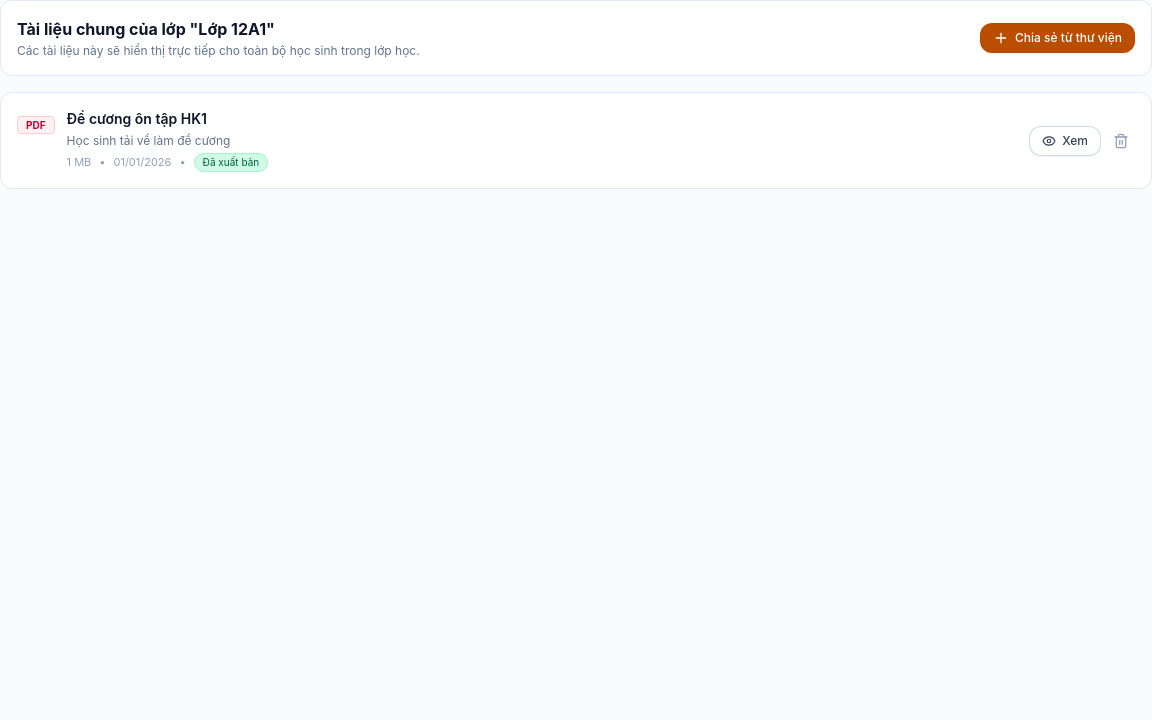
Scenario: TeacherClassMaterialsTab › renders class materials list and allows opening share modal
This screenshot has width=1152, height=720.
Check: the heading "Đề cương ôn tập HK1" is shown, box [67, 110, 207, 127]
Check: the text "Đã xuất bản" is shown, box [194, 153, 268, 172]
Click the button "Chia sẻ từ thư viện": x=1058, y=38 [980, 23, 1135, 53]
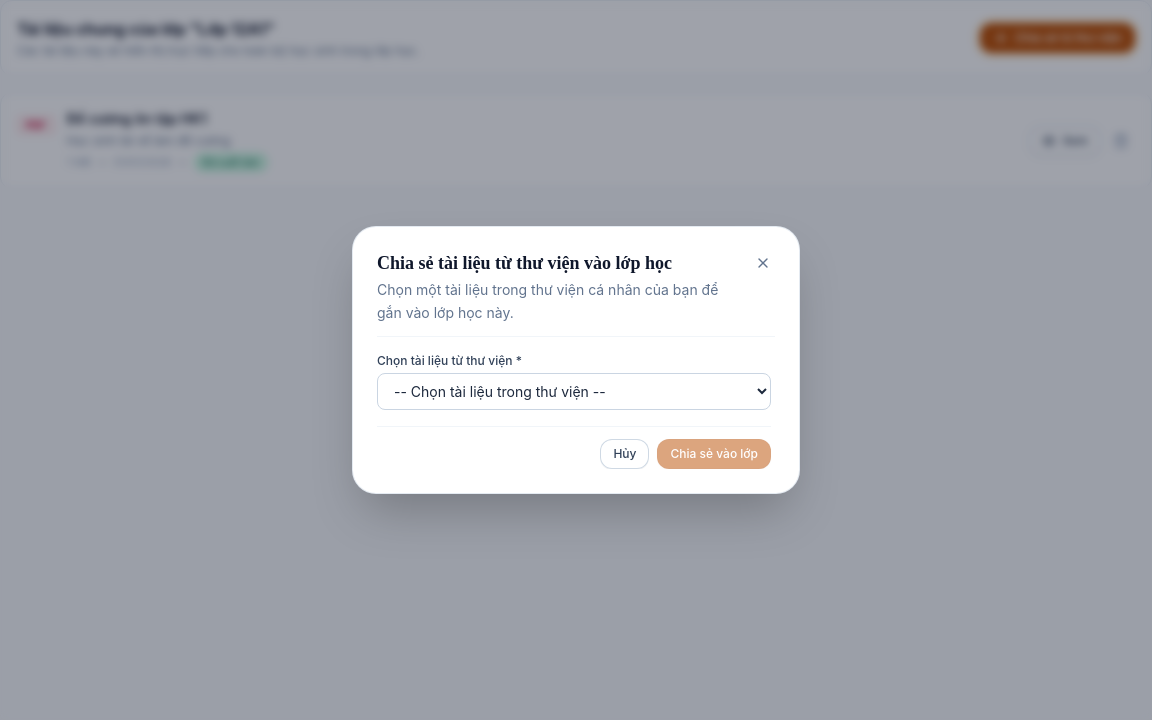
Check: the heading "Chia sẻ tài liệu từ thư viện vào lớp học" is shown, box [377, 253, 672, 273]
